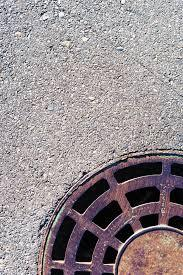open drainage-not overflowing-: (24, 140, 183, 275)
